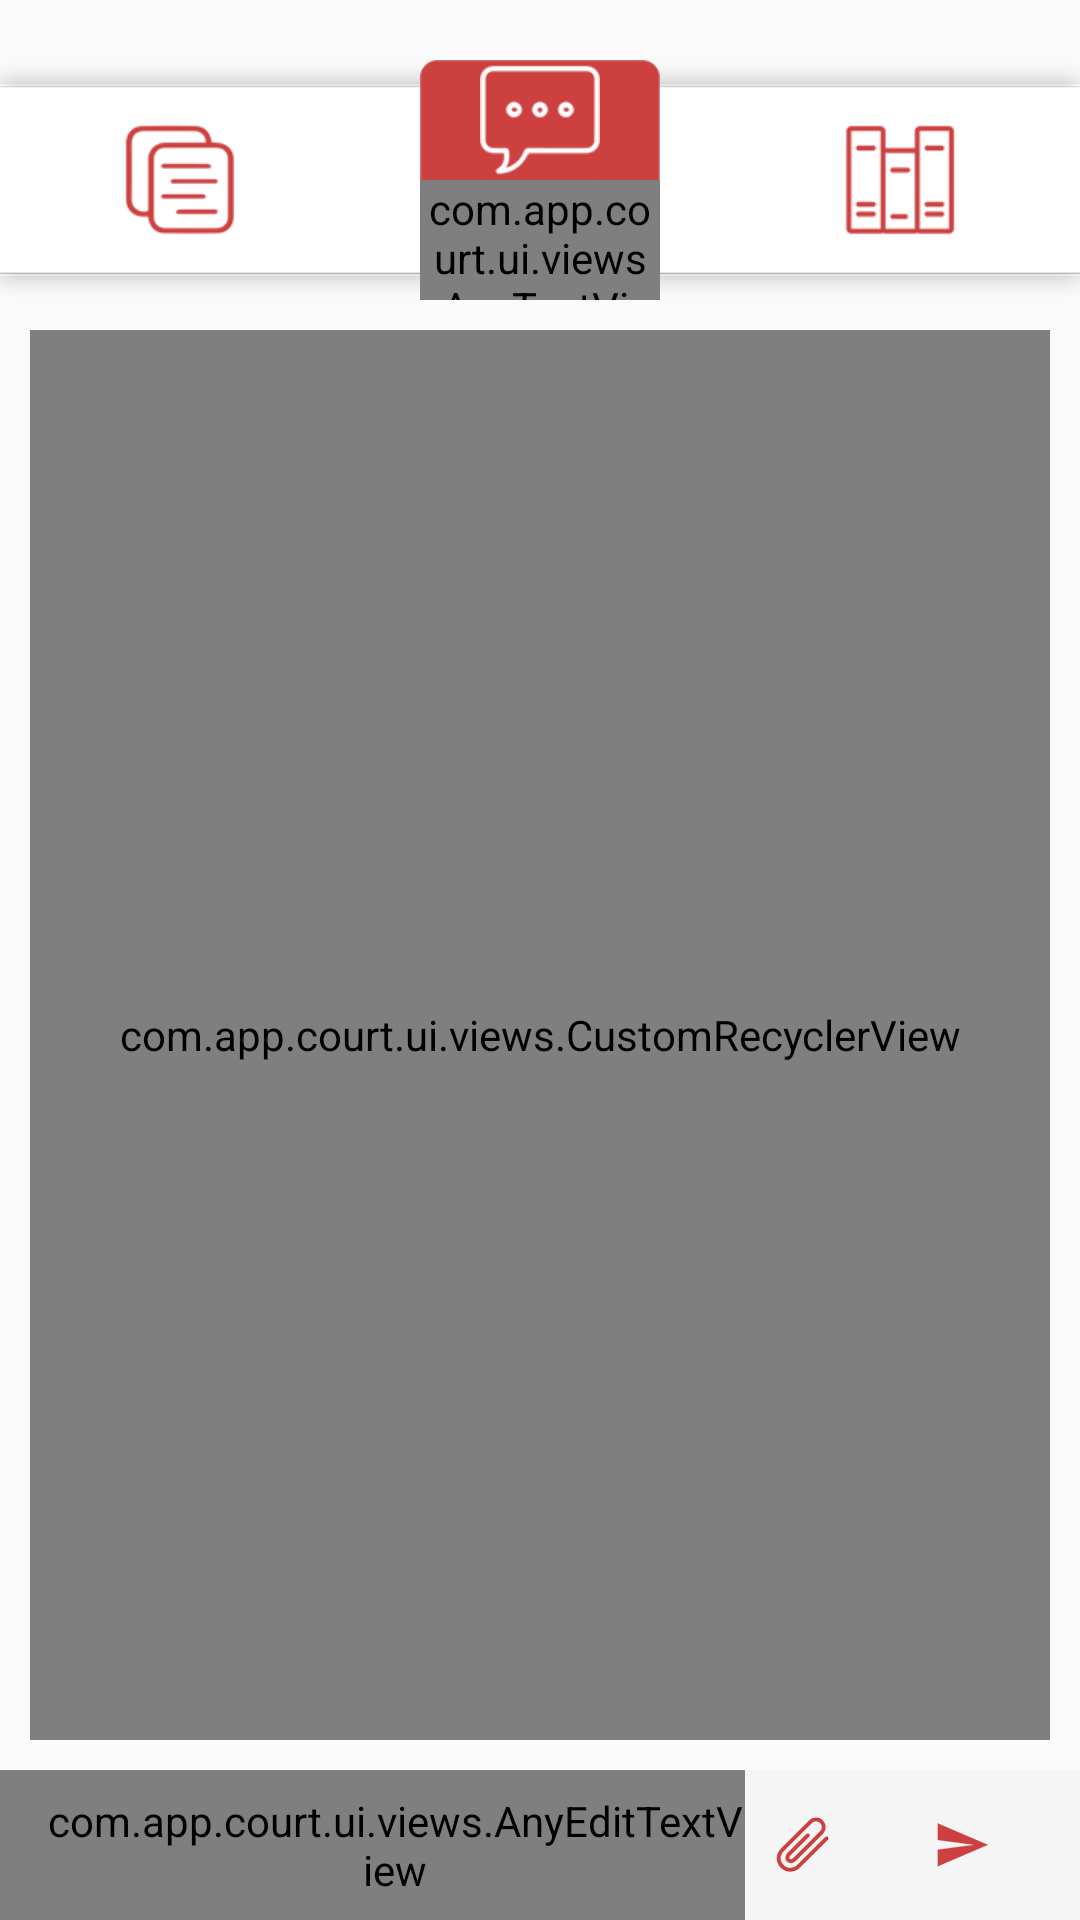

Icon click points for this 1080 × 1920 phone screenshot, format (x=x, y=y):
attachement: (x=802, y=1844)
library: (x=900, y=179)
messages: (x=540, y=120)
send: (x=962, y=1845)
